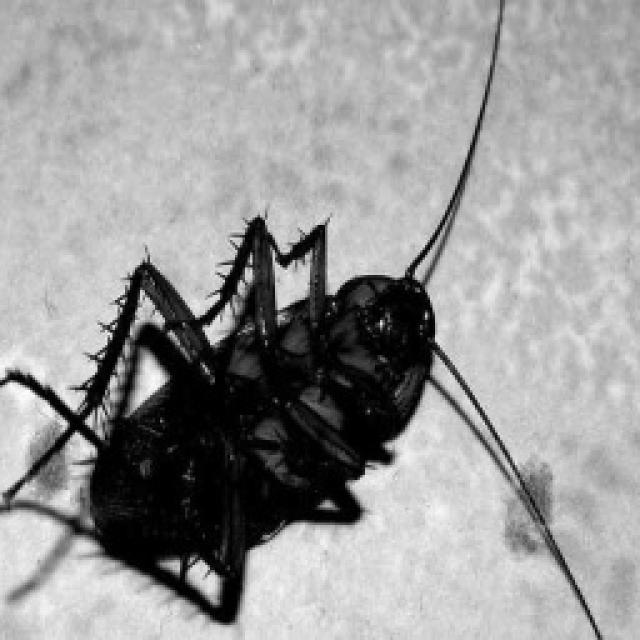cockroach: (52, 104, 536, 607)
